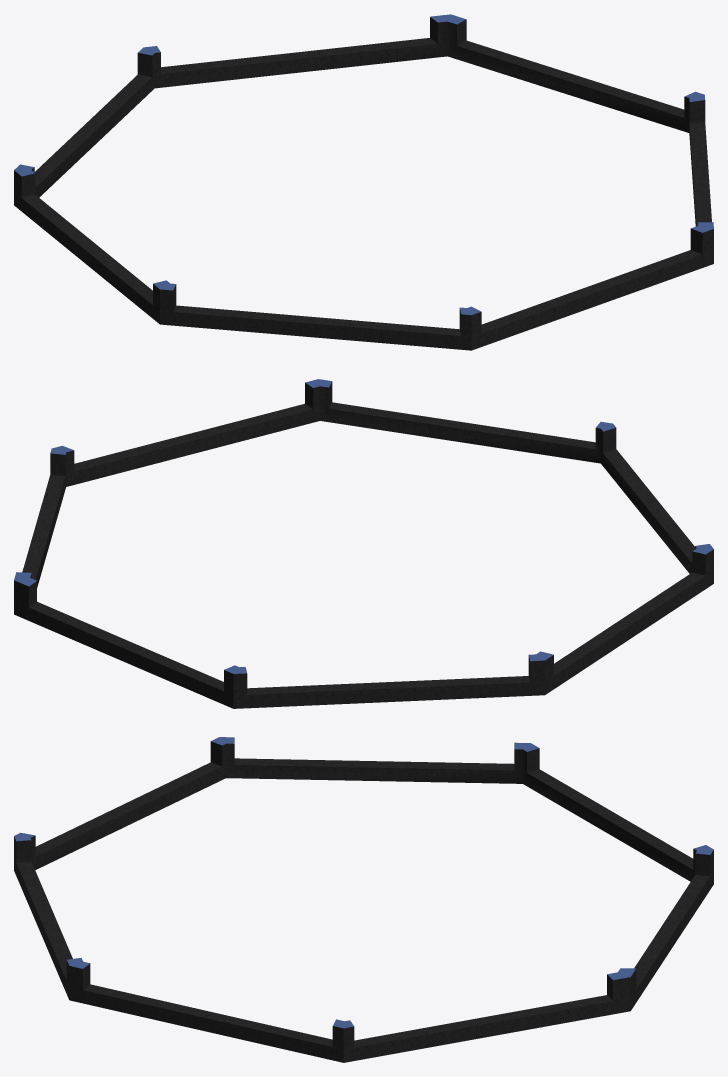
Rendered from colony_boundary.fbx.
3 renders of one model, top to bottom at view 1: azimuth 30°, elevation 25°; view 2: azimuth 150°, elevation 25°; view 3: azimuth 270°, elevation 25°, orthographic.
Parts seen in each view (by area): view 1: Model; view 2: Model; view 3: Model.
Part boxes in pixels (left/top/right/bottom): Model: left=14, top=14, right=713, bottom=350; Model: left=14, top=379, right=713, bottom=708; Model: left=14, top=737, right=713, bottom=1062.
Size of the model in its own units: 77.16 by 4.29 by 78.32.
